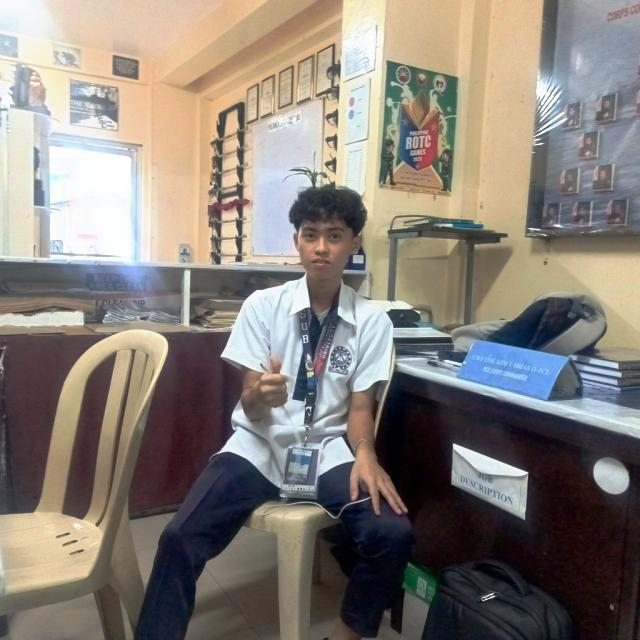other_gesture: (347, 456, 409, 519), (254, 371, 291, 410)
